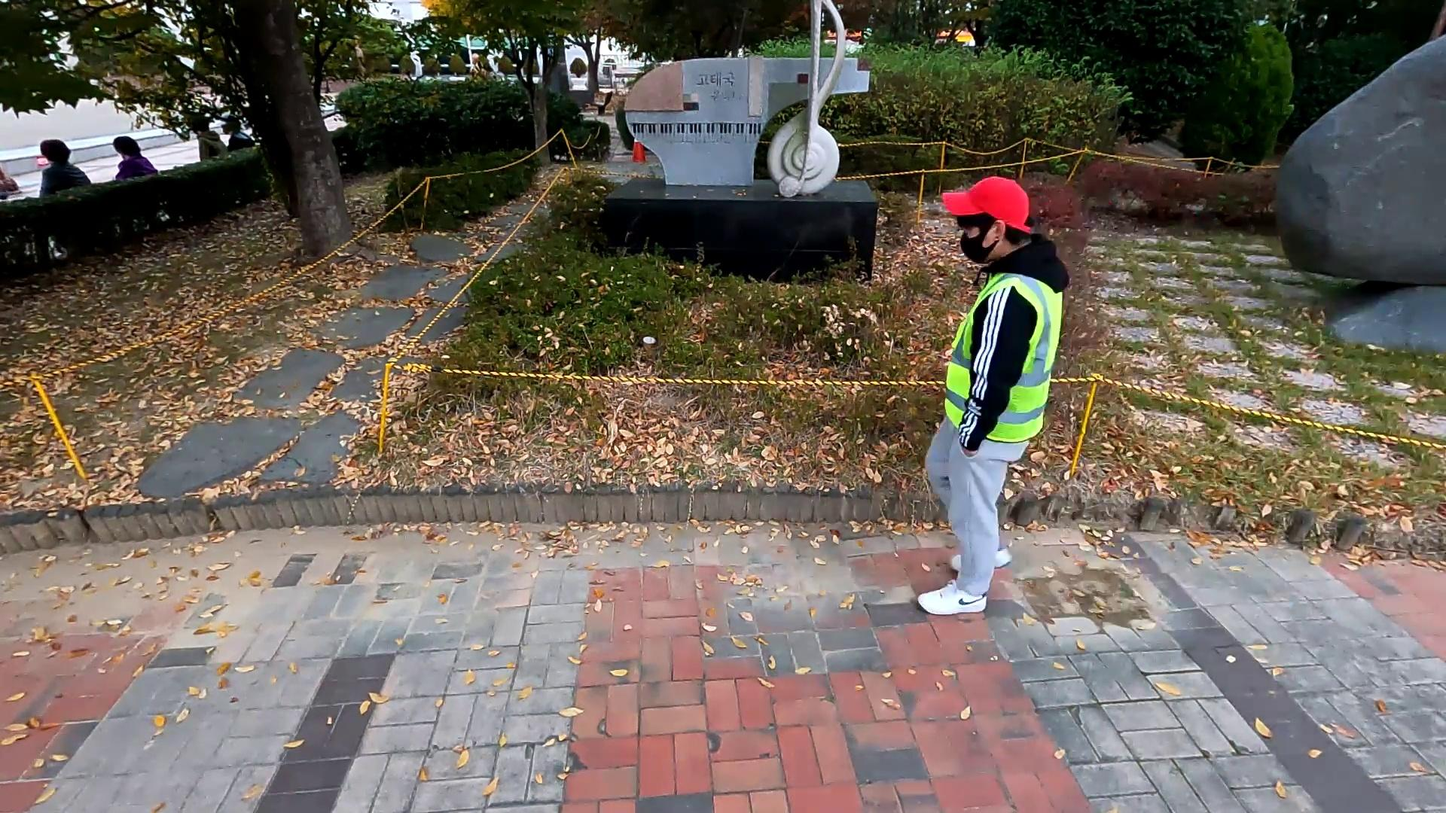person: (903, 164, 1074, 635), (37, 142, 102, 206), (107, 132, 160, 191)
